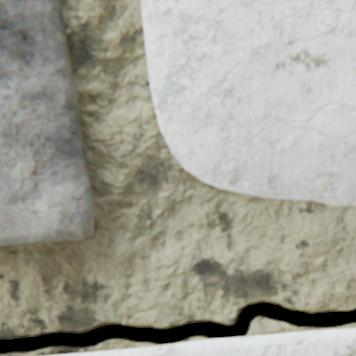brick: (142, 0, 355, 206), (0, 0, 95, 246), (53, 328, 355, 355)
crack: (0, 302, 355, 354)
